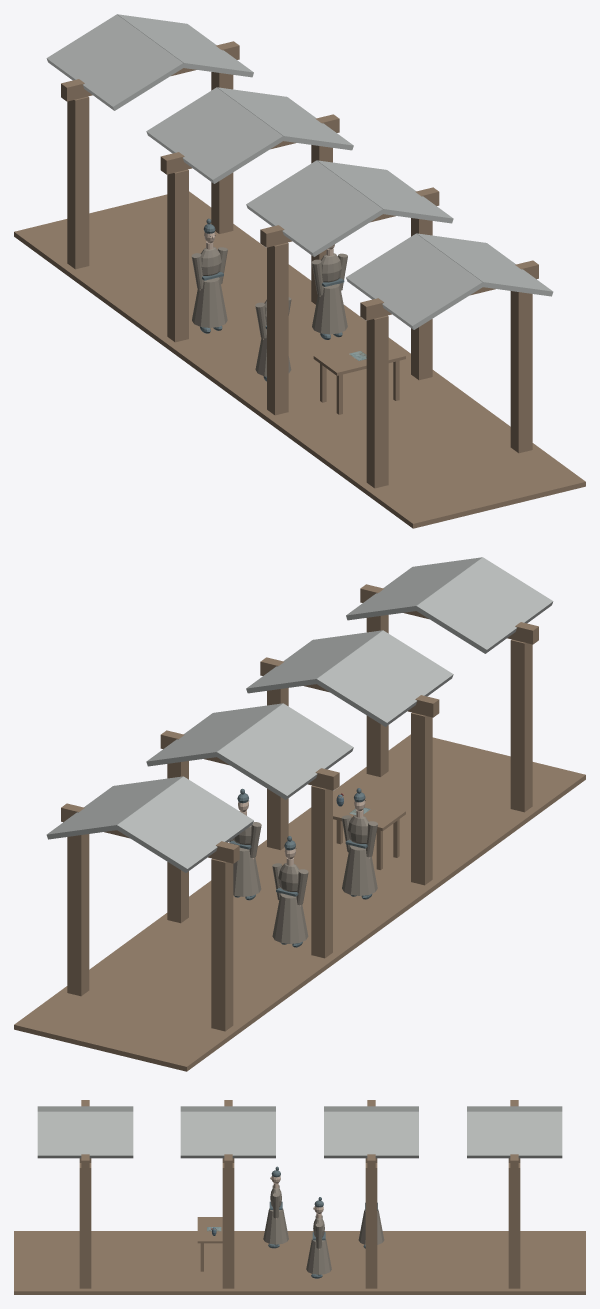
File: EP02-SET02.glb
3 views of the same model, one above another, from view 1: azimuth 30°, elevation 25°; view 2: azimuth 150°, elevation 25°; view 3: azimuth 270°, elevation 25° (orthographic). The views are drawn at different scales.
Parts seen in each view (by area): view 1: floor (×4), roof_left (×4), column (×7), roof_right (×4), beam (×4), robe_skirt (×2), tabletop; view 2: floor (×4), roof_left (×4), column (×8), roof_right (×4), robe_skirt (×3), beam (×4), tabletop; view 3: floor (×4), roof_right (×4), column (×4), roof_left (×4), robe_skirt (×3), tabletop.
Part boxes in pixels (x1,y1,x2,y2): floor (×4): (14,191,585,528); roof_left (×4): (46,14,483,329); column (×7): (67,72,532,488); roof_right (×4): (117,14,553,296); beam (×4): (61,41,538,320); robe_skirt (×2): (192,277,347,334); tabletop: (313,343,405,375); floor (×4): (14,734,585,1071); roof_left (×4): (116,557,553,872); column (×8): (67,615,532,1031); roof_right (×4): (46,557,482,839); robe_skirt (×3): (233,845,377,943); beam (×4): (61,584,538,863); tabletop: (333,794,405,831); floor (×4): (14,1231,585,1294); roof_right (×4): (37,1111,562,1158); column (×4): (79,1163,520,1288); roof_left (×4): (37,1106,562,1111); robe_skirt (×3): (263,1208,384,1274); tabletop: (197,1217,222,1243).
Size of the model in its own units: 3 by 3.54 by 12.
11 materials, 1 textured.
